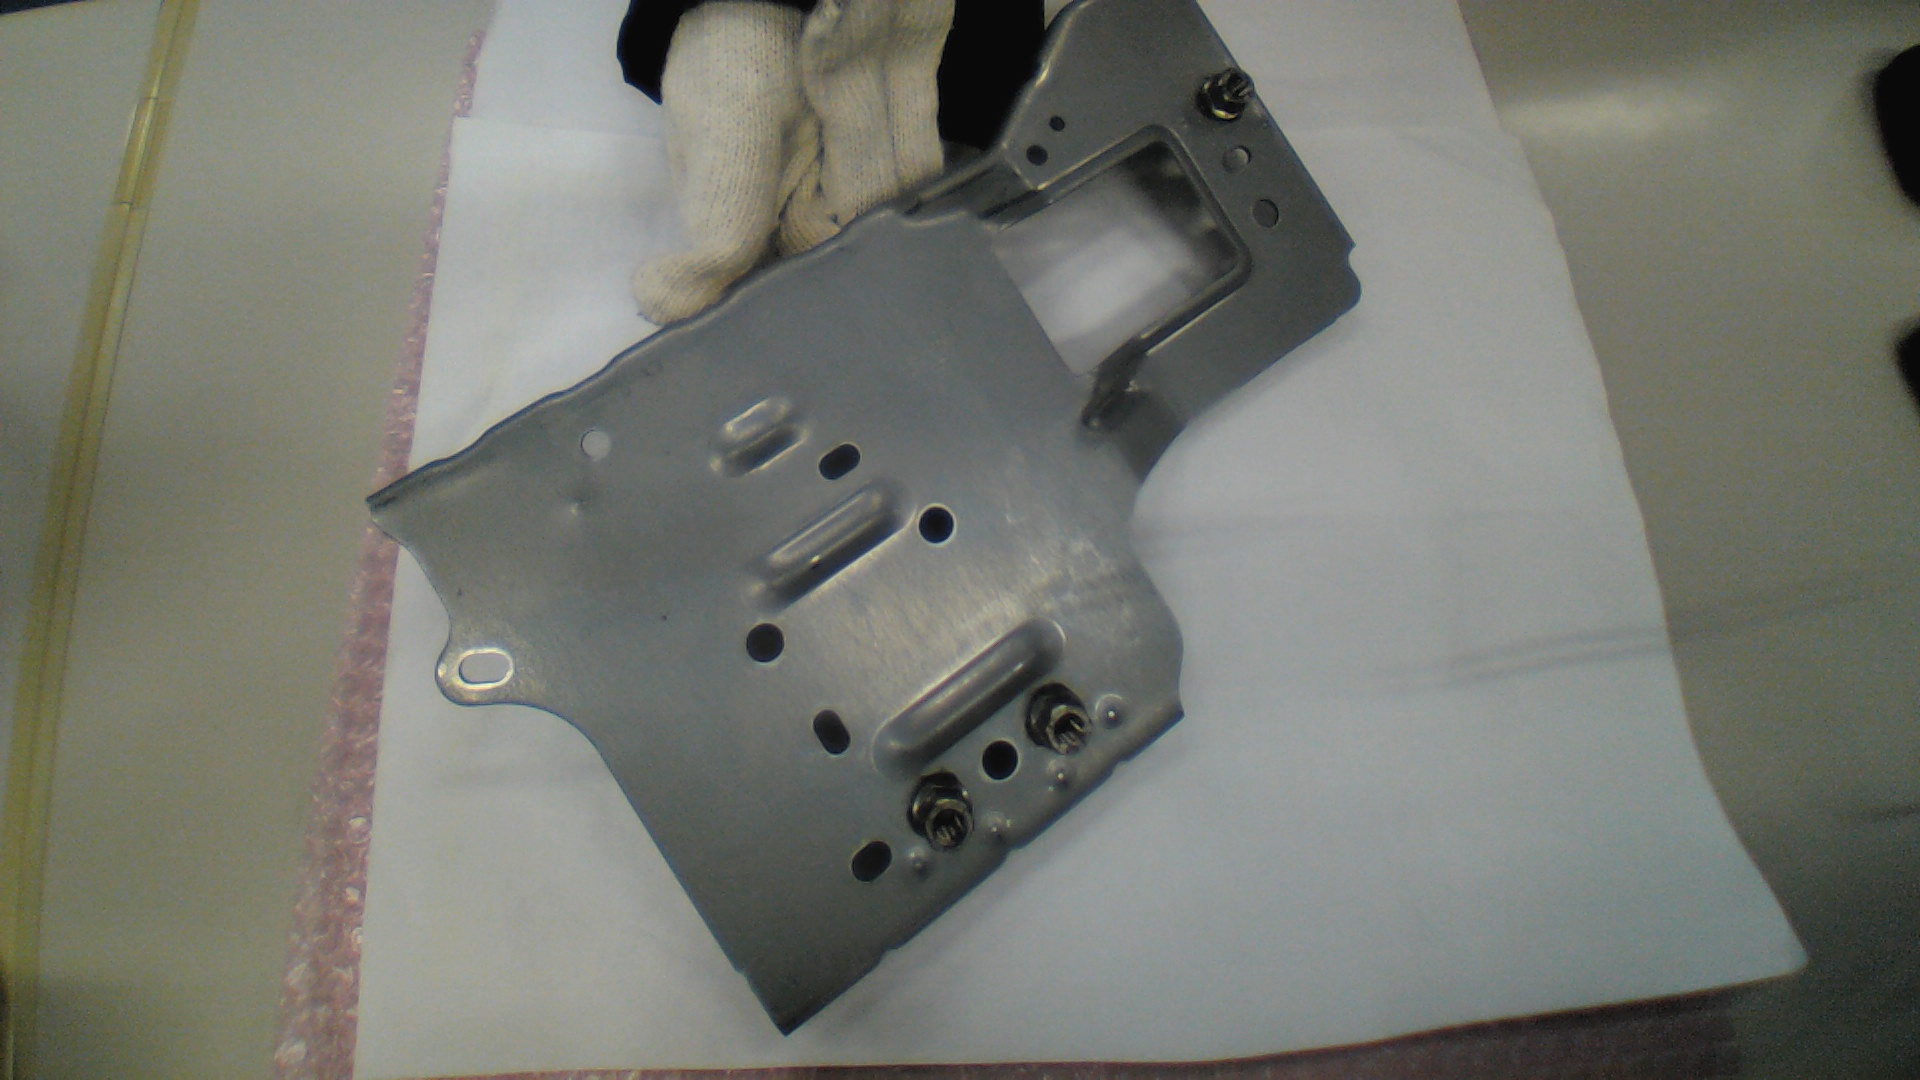dog: (905, 769, 978, 855), (1026, 684, 1091, 756), (1196, 67, 1254, 123)
